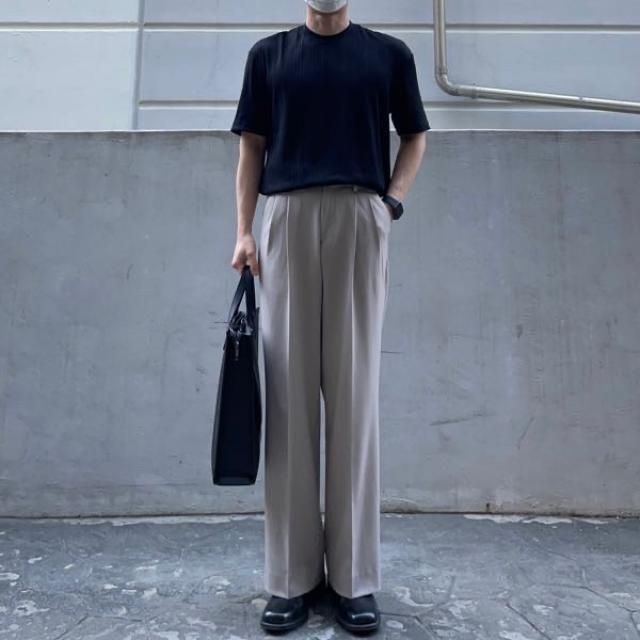shortsleeve: (231, 22, 432, 192)
slacks: (257, 188, 396, 601)
